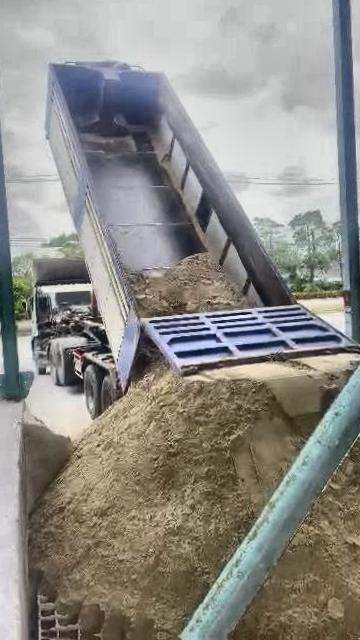sand: (30, 367, 319, 636), (237, 438, 360, 638), (189, 355, 357, 415), (131, 253, 249, 316), (21, 411, 73, 512), (137, 334, 163, 374)
